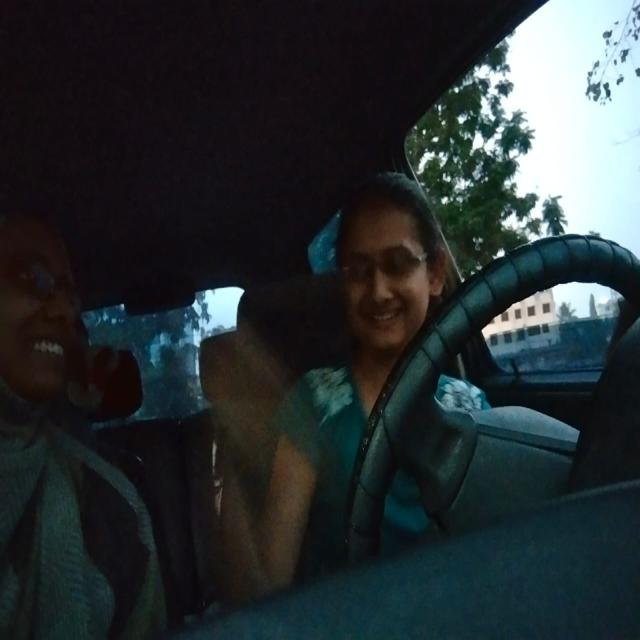person: (322, 170, 446, 367), (1, 212, 89, 430)
talking: (358, 298, 413, 340), (25, 328, 72, 375)
